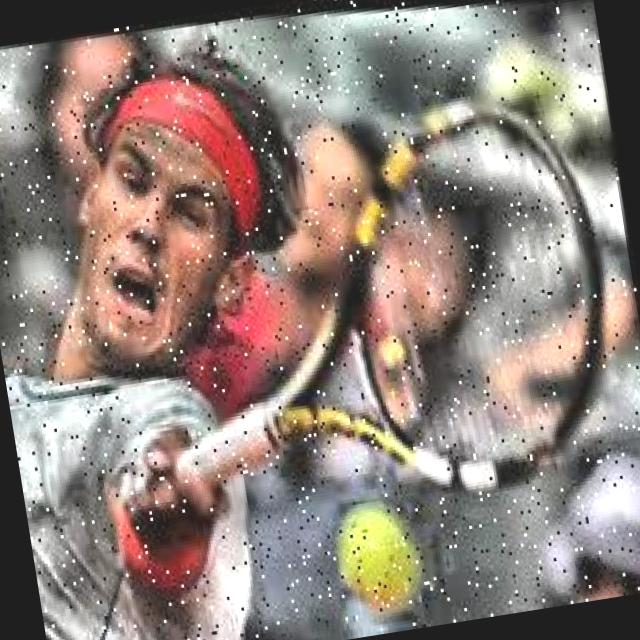tennis-ball: (326, 483, 450, 636)
